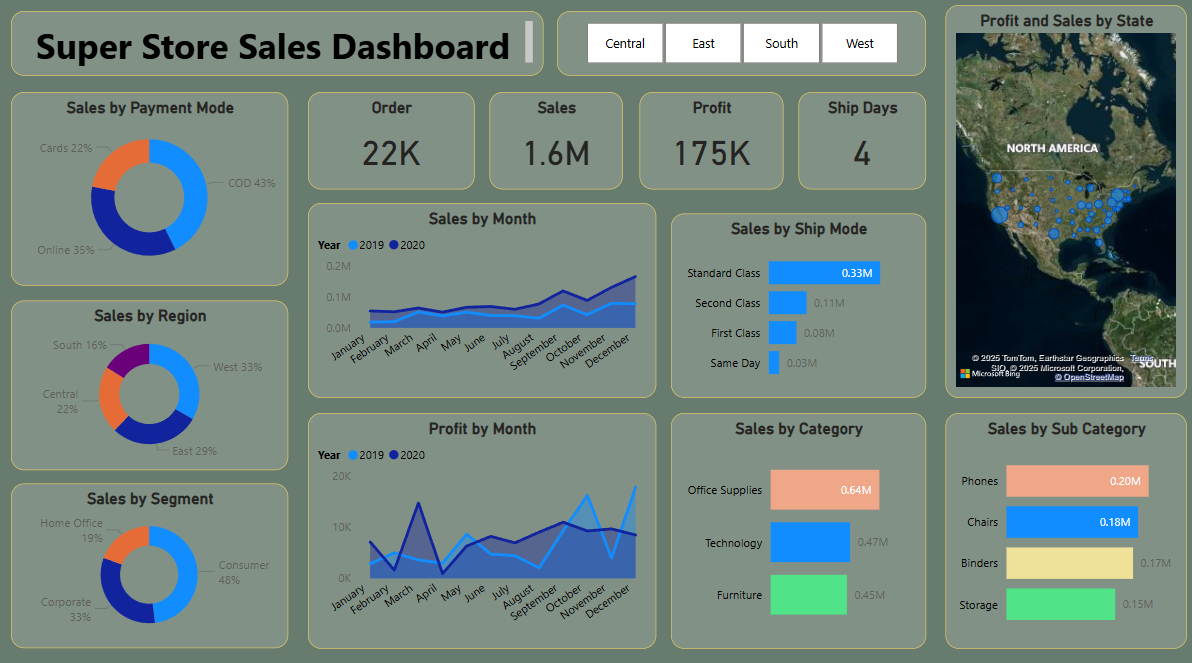

Layout of this report page (visuals, bound fields, positions):
{"tool":"powerbi","page":{"name":"Page 1","canvas":[1280,720],"ordinal":0},"visuals":[{"type":"clusteredBarChart","title":"Sales by Category","fields":{"Category":["SuperStore_Sales_Dataset.Category"],"Y":["Sum(SuperStore_Sales_Dataset.Sales)"]},"box":[715.8,445.4,270.4,249.7],"z":0},{"type":"clusteredBarChart","title":"Sales by Sub Category","fields":{"Y":["Sum(SuperStore_Sales_Dataset.Sales)"],"Category":["SuperStore_Sales_Dataset.Sub-Category"]},"box":[1006.9,445.4,256.1,249.7],"z":1000},{"type":"clusteredBarChart","title":"Sales by Ship Mode","fields":{"Y":["Sum(SuperStore_Sales_Dataset.Sales)"],"Category":["SuperStore_Sales_Dataset.Ship Mode"]},"box":[715.8,233.8,270.4,195.6],"z":2000},{"type":"areaChart","title":"Sales by Month","fields":{"Category":["SuperStore_Sales_Dataset.Order Date.Variation.Date Hierarchy.Month","SuperStore_Sales_Dataset.Order Date.Variation.Date Hierarchy.Day"],"Y":["Sum(SuperStore_Sales_Dataset.Sales)"],"Series":["SuperStore_Sales_Dataset.Order Date.Variation.Date Hierarchy.Year"]},"box":[330.8,222.7,369,206.8],"z":3000},{"type":"areaChart","title":"Profit by Month","fields":{"Category":["SuperStore_Sales_Dataset.Order Date.Variation.Date Hierarchy.Month","SuperStore_Sales_Dataset.Order Date.Variation.Date Hierarchy.Day"],"Series":["SuperStore_Sales_Dataset.Order Date.Variation.Date Hierarchy.Year"],"Y":["Sum(SuperStore_Sales_Dataset.Profit)"]},"box":[330.8,445.4,369,249.7],"z":4000},{"type":"map","title":"Profit and Sales by State","fields":{"Category":["SuperStore_Sales_Dataset.State"],"Size":["Sum(SuperStore_Sales_Dataset.Sales)"]},"box":[1006.9,12.7,256.1,416.7],"z":5000},{"type":"donutChart","title":"Sales by Segment","fields":{"Category":["SuperStore_Sales_Dataset.Segment"],"Y":["Sum(SuperStore_Sales_Dataset.Sales)"]},"box":[15.9,520.1,294.3,175],"z":6000},{"type":"donutChart","title":"Sales by Payment Mode","fields":{"Category":["SuperStore_Sales_Dataset.Payment Mode"],"Y":["Sum(SuperStore_Sales_Dataset.Sales)"]},"box":[15.9,105,294.3,205.2],"z":7000},{"type":"slicer","fields":{"Values":["SuperStore_Sales_Dataset.Region"]},"box":[594.9,19.1,391.3,68.4],"z":8000},{"type":"textbox","box":[15.9,19.1,564.7,68.4],"z":9000},{"type":"card","title":"Sales","fields":{"Values":["Sum(SuperStore_Sales_Dataset.Sales)"]},"box":[523.3,105,141.6,103.4],"z":10000},{"type":"card","title":"Order","fields":{"Values":["Sum(SuperStore_Sales_Dataset.Quantity)"]},"box":[330.8,105,176.6,103.4],"z":11000},{"type":"card","title":"Profit","fields":{"Values":["Sum(SuperStore_Sales_Dataset.Profit)"]},"box":[682.4,105,152.7,103.4],"z":12000},{"type":"card","title":"Ship Days","fields":{"Values":["Avg(SuperStore_Sales_Dataset.AvgDelivery)"]},"box":[851,105,135.2,103.4],"z":13000},{"type":"donutChart","title":"Sales by Region","fields":{"Y":["Sum(SuperStore_Sales_Dataset.Sales)"],"Category":["SuperStore_Sales_Dataset.Region"]},"box":[15.9,326.1,294.3,179.7],"z":14000}]}

Visuals, with their boxes in screenshot pixels (x1, y1, x2, y2), scaled from the page's 1280x720 canvas onto the 1192x663 screenshot:
"Sales by Category" clusteredBarChart: [667,410,918,640]
"Sales by Sub Category" clusteredBarChart: [938,410,1176,640]
"Sales by Ship Mode" clusteredBarChart: [667,215,918,395]
"Sales by Month" areaChart: [308,205,652,395]
"Profit by Month" areaChart: [308,410,652,640]
"Profit and Sales by State" map: [938,12,1176,395]
"Sales by Segment" donutChart: [15,479,289,640]
"Sales by Payment Mode" donutChart: [15,97,289,286]
slicer - SuperStore_Sales_Dataset.Region: [554,18,918,81]
textbox: [15,18,541,81]
"Sales" card: [487,97,619,192]
"Order" card: [308,97,473,192]
"Profit" card: [635,97,778,192]
"Ship Days" card: [792,97,918,192]
"Sales by Region" donutChart: [15,300,289,466]
